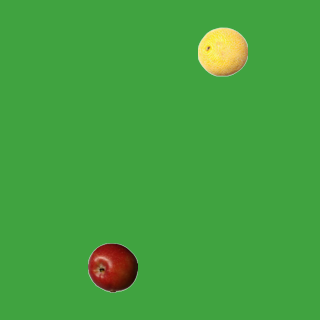Apple Braeburn: (87, 242, 137, 292)
Cantaloupe 1: (197, 26, 247, 76)
